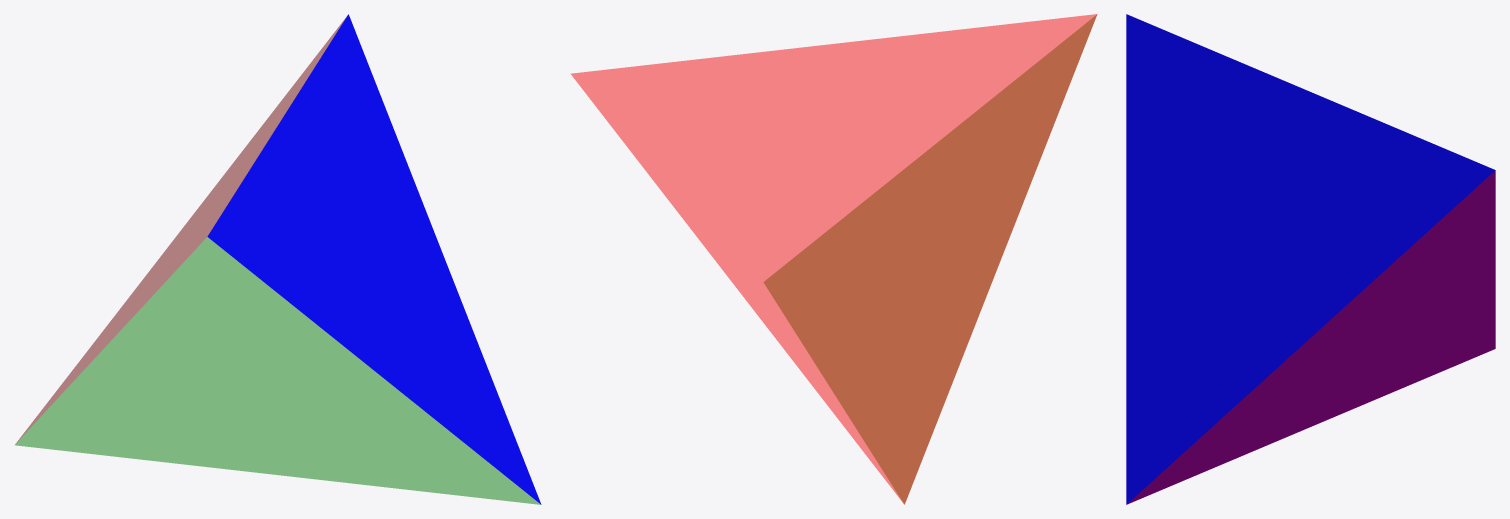
Rendered from tetrahedron-centered.glb.
3 renders of one model, left to right at view 1: azimuth 30°, elevation 25°; view 2: azimuth 150°, elevation 25°; view 3: azimuth 270°, elevation 25°, orthographic. The views are drawn at different scales.
Visible parts, largest first — view 1: tetrahedron; view 2: tetrahedron; view 3: tetrahedron.
Boxes of the visible parts, left/top/right/bottom form: tetrahedron: left=15, top=14, right=541, bottom=504; tetrahedron: left=571, top=14, right=1097, bottom=504; tetrahedron: left=1126, top=14, right=1495, bottom=504.
Size of the model in its own units: 1 by 1 by 1.
